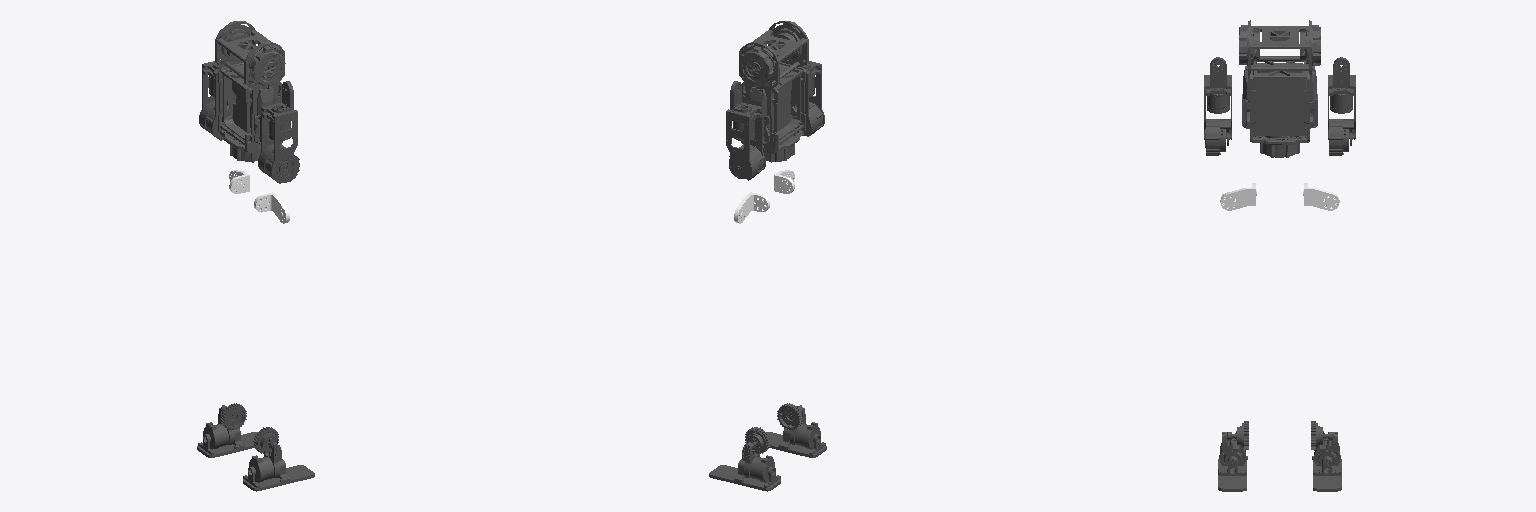
URDF robot description (E1):
<?xml version="1.0" encoding="utf-8"?>
<robot name="E1">

  <!-- <mujoco>
    <compiler meshdir="./meshes" balanceinertia="true" discardvisual="false" />
  </mujoco>

  <link name="world"></link>
  <joint name="floating_base_joint" type="floating">
    <parent link="world"/>
    <child link="pelvis"/>
  </joint> -->

  <link name="pelvis">
    <inertial>
      <origin xyz="-1.83413794531939E-07 2.98943988592675E-07 0.0134170656558657" rpy="0 0 0" />
      <mass value="2.73" />
      <inertia ixx="0.00792451" ixy="-0.00000201" ixz="0.00022435" iyy="0.00661284" iyz="0.00000816" izz="0.00695262" />
    </inertial>
    <visual>
      <origin xyz="0 0 0" rpy="0 0 0" />
      <geometry>
        <mesh filename="../meshes/pelvis.STL" />
      </geometry>
      <material name="">
        <color rgba="0.4 0.4 0.4 0.3" />
      </material>
    </visual>
    <!-- <collision>
      <origin xyz="0 0 0" rpy="0 0 0" />
      <geometry>
        <box size="0.11 0.11 0.08" />
      </geometry>
    </collision> -->
  </link>
  <link name="left_hip_pitch_link">
    <inertial>
      <origin xyz="0.00029538 0.03084445 -0.00578934" rpy="0 0 0" />
      <mass value="0.145" />
      <inertia ixx="0.00011256" ixy="0.00002214" ixz="-0.00000468" iyy="0.00005128" iyz="-0.00002099" izz="0.00010702" />
    </inertial>
    <visual>
      <origin xyz="0 0 0" rpy="0 0 0" />
      <geometry>
        <mesh filename="../meshes/left_hip_pitch_link.STL" />
      </geometry>
      <material name="">
        <color rgba="1 1 1 1" />
      </material>
    </visual>
  </link>
  <joint name="left_hip_pitch_joint" type="revolute">
    <origin xyz="0 0.0575 0" rpy="0 0 0" />
    <parent link="pelvis" />
    <child link="left_hip_pitch_link" />
    <axis xyz="0 1 0" />
    <limit lower="-1.8" upper="1.57" effort="60" velocity="20.42" />
  </joint>
  <link name="left_hip_roll_link">
    <inertial>
      <origin xyz="-0.00147244 0.00041537 -0.03721449" rpy="0 0 0" />
      <mass value="1.39" />
      <inertia ixx="0.002567" ixy="0.00001559" ixz="-0.00006696" iyy="0.00235625" iyz="0.00000301" izz="0.00145182" />
    </inertial>
    <visual>
      <origin xyz="0 0 0" rpy="0 0 0" />
      <geometry>
        <mesh filename="../meshes/left_hip_roll_link.STL" />
      </geometry>
      <material name="">
        <color rgba="0.4 0.4 0.4 0.3" />
      </material>
    </visual>
    <!-- <collision>
      <origin xyz="0 0 0" rpy="0 1.5708 0" />
      <geometry>
        <cylinder radius="0.05" length="0.09" />
      </geometry>
    </collision> -->
  </link>
  <joint name="left_hip_roll_joint" type="revolute">
    <origin xyz="0 0.0575 -0.015" rpy="0 0 0" />
    <parent link="left_hip_pitch_link" />
    <child link="left_hip_roll_link" />
    <axis xyz="1 0 0" />
    <limit lower="-0.1745" upper="1.57" effort="60" velocity="20.42" />
  </joint>
  <link name="left_hip_yaw_link">
    <inertial>
      <origin xyz="0.00070152 0.00025365 -0.08614663" rpy="0 0 0" />
      <mass value="2.32" />
      <inertia ixx="0.01611989" ixy="-0.00000019" ixz="-0.00028259" iyy="0.01646544" iyz="0.00024296" izz="0.00278263" />
    </inertial>
    <visual>
      <origin xyz="0 0 0" rpy="0 0 0" />
      <geometry>
        <mesh filename="../meshes/left_hip_yaw_link.STL" />
      </geometry>
      <material name="">
        <color rgba="0.4 0.4 0.4 0.3" />
      </material>
    </visual>
    <collision>
      <origin xyz="0 0 -0.085" rpy="0 0 0" />
      <geometry>
        <cylinder radius="0.06" length="0.2" />
      </geometry>
    </collision>
  </link>
  <joint name="left_hip_yaw_joint" type="revolute">
    <origin xyz="0 0 -0.098" rpy="0 0 0" />
    <parent link="left_hip_roll_link" />
    <child link="left_hip_yaw_link" />
    <axis xyz="0 0 1" />
    <limit lower="-1.0" upper="1.0" effort="36" velocity="50.27" />
  </joint>
  <link name="left_knee_link">
    <inertial>
      <origin xyz="0.00414084 -0.00040825 -0.13326938" rpy="0 0 0" />
      <mass value="0.785" />
      <inertia ixx="0.01156593" ixy="0.00000094" ixz="-0.00002291" iyy="0.01158947" iyz="0.00008706" izz="0.00032382" />
    </inertial>
    <visual>
      <origin xyz="0 0 0" rpy="0 0 0" />
      <geometry>
        <mesh filename="../meshes/left_knee_link.STL" />
      </geometry>
      <material name="">
        <color rgba="0.4 0.4 0.4 0.3" />
      </material>
    </visual>
    <collision>
      <origin xyz="0.008 0 -0.165" rpy="0 0.04 0" />
      <geometry>
        <cylinder radius="0.045" length="0.23" />
      </geometry>
    </collision>
  </link>
  <joint name="left_knee_joint" type="revolute">
    <origin xyz="0 0 -0.222" rpy="0 0 0" />
    <parent link="left_hip_yaw_link" />
    <child link="left_knee_link" />
    <axis xyz="0 1 0" />
    <!-- 传动比17/28 -->
    <limit lower="0" upper="2.4435" effort="59.3" velocity="30.52" />
  </joint>
  <link name="left_ankle_pitch_link">
    <inertial>
      <origin xyz="-0.01426716 -0.00101925 -0.04298429" rpy="0 0 0" />
      <mass value="0.597" />
      <inertia ixx="0.00065314" ixy="-0.00001099" ixz="0.00013946" iyy="0.00072568" iyz="-0.00003869" izz="0.00044755" />
    </inertial>
    <visual>
      <origin xyz="0 0 0" rpy="0 0 0" />
      <geometry>
        <mesh filename="../meshes/left_ankle_pitch_link.STL" />
      </geometry>
      <material name="">
        <color rgba="0.4 0.4 0.4 1" />
      </material>
    </visual>
  </link>
  <joint name="left_ankle_pitch_joint" type="revolute">
    <origin xyz="0 0 -0.32" rpy="0 0 0" />
    <parent link="left_knee_link" />
    <child link="left_ankle_pitch_link" />
    <axis xyz="0 1 0" />
    <!-- 传动比17/28 -->
    <limit lower="-0.87" upper="0.35" effort="59.3" velocity="30.52" />
  </joint>
  <link name="left_ankle_roll_link">
    <inertial>
      <origin xyz="0.01152056 0 -0.02947055" rpy="0 0 0" />
      <mass value="0.294" />
      <inertia ixx="0.0001508" ixy="0" ixz="-0.00002398" iyy="0.00074194" iyz="0" izz="0.00079391" />
    </inertial>
    <visual>
      <origin xyz="0 0 0" rpy="0 0 0" />
      <geometry>
        <mesh filename="../meshes/left_ankle_roll_link.STL" />
      </geometry>
      <material name="">
        <color rgba="0.4 0.4 0.4 0.3" />
      </material>
    </visual>
    <collision>
      <origin xyz="0.02 0 -0.027" rpy="0 0 0" />
      <geometry>
        <box size="0.18 0.07 0.025" />
      </geometry>
    </collision>
  </link>
  <joint name="left_ankle_roll_joint" type="revolute">
    <origin xyz="0 0 -0.06" rpy="0 0 0" />
    <parent link="left_ankle_pitch_link" />
    <child link="left_ankle_roll_link" />
    <axis xyz="1 0 0" />
    <limit lower="-0.44" upper="0.44" effort="14" velocity="32.99" />
  </joint>
  <link name="right_hip_pitch_link">
    <inertial>
      <origin xyz="0.00029538 -0.03084445 -0.00578934" rpy="0 0 0" />
      <mass value="0.145" />
      <inertia ixx="0.00011256" ixy="-0.00002214" ixz="-0.00000468" iyy="0.00005128" iyz="0.00002099" izz="0.00010702" />
    </inertial>
    <visual>
      <origin xyz="0 0 0" rpy="0 0 0" />
      <geometry>
        <mesh filename="../meshes/right_hip_pitch_link.STL" />
      </geometry>
      <material name="">
        <color rgba="1 1 1 1" />
      </material>
    </visual>
  </link>
  <joint name="right_hip_pitch_joint" type="revolute">
    <origin xyz="0 -0.0575 0" rpy="0 0 0" />
    <parent link="pelvis" />
    <child link="right_hip_pitch_link" />
    <axis xyz="0 1 0" />
    <limit lower="-1.8" upper="1.57" effort="60" velocity="20.42" />
  </joint>
  <link name="right_hip_roll_link">
    <inertial>
      <origin xyz="-0.00147237 -0.00041532 -0.03721455" rpy="0 0 0" />
      <mass value="1.39" />
      <inertia ixx="0.00256699" ixy="-0.00001559" ixz="-0.00006696" iyy="0.00235625" iyz="-0.00000302" izz="0.00145182" />
    </inertial>
    <visual>
      <origin xyz="0 0 0" rpy="0 0 0" />
      <geometry>
        <mesh filename="../meshes/right_hip_roll_link.STL" />
      </geometry>
      <material name="">
        <color rgba="0.4 0.4 0.4 0.3" />
      </material>
    </visual>
    <!-- <collision>
      <origin xyz="0 0 0" rpy="0 1.5708 0" />
      <geometry>
        <cylinder radius="0.05" length="0.09" />
      </geometry>
    </collision> -->
  </link>
  <joint name="right_hip_roll_joint" type="revolute">
    <origin xyz="0 -0.0575 -0.015" rpy="0 0 0" />
    <parent link="right_hip_pitch_link" />
    <child link="right_hip_roll_link" />
    <axis xyz="1 0 0" />
    <limit lower="-1.57" upper="0.1745" effort="60" velocity="20.42" />
  </joint>
  <link name="right_hip_yaw_link">
    <inertial>
      <origin xyz="0.00070152 -0.00025365 -0.08614688" rpy="0 0 0" />
      <mass value="2.32" />
      <inertia ixx="0.01611990" ixy="0.00000018" ixz="-0.00028259" iyy="0.01646544" iyz="-0.00024296" izz="0.00278262" />
    </inertial>
    <visual>
      <origin xyz="0 0 0" rpy="0 0 0" />
      <geometry>
        <mesh filename="../meshes/right_hip_yaw_link.STL" />
      </geometry>
      <material name="">
        <color rgba="0.4 0.4 0.4 0.3" />
      </material>
    </visual>
    <collision>
      <origin xyz="0 0 -0.085" rpy="0 0 0" />
      <geometry>
        <cylinder radius="0.06" length="0.2" />
      </geometry>
    </collision>
  </link>
  <joint name="right_hip_yaw_joint" type="revolute">
    <origin xyz="0 0 -0.098" rpy="0 0 0" />
    <parent link="right_hip_roll_link" />
    <child link="right_hip_yaw_link" />
    <axis xyz="0 0 1" />
    <limit lower="-1.0" upper="1.0" effort="36" velocity="50.27" />
  </joint>
  <link name="right_knee_link">
    <inertial>
      <origin xyz="0.00414085 0.00040825 -0.13326949" rpy="0 0 0" />
      <mass value="0.785" />
      <inertia ixx="0.01156594" ixy="-0.00000094" ixz="-0.00002291" iyy="0.01158948" iyz="-0.00008706" izz="0.00032382" />
    </inertial>
    <visual>
      <origin xyz="0 0 0" rpy="0 0 0" />
      <geometry>
        <mesh filename="../meshes/right_knee_link.STL" />
      </geometry>
      <material name="">
        <color rgba="0.4 0.4 0.4 0.3" />
      </material>
    </visual>
    <collision>
      <origin xyz="0.008 0 -0.165" rpy="0 0.04 0" />
      <geometry>
        <cylinder radius="0.045" length="0.23" />
      </geometry>
    </collision>
  </link>
  <joint name="right_knee_joint" type="revolute">
    <origin xyz="0 0 -0.222" rpy="0 0 0" />
    <parent link="right_hip_yaw_link" />
    <child link="right_knee_link" />
    <axis xyz="0 1 0" />
    <!-- 传动比17/28 -->
    <limit lower="0" upper="2.4435" effort="59.3" velocity="30.52" />
  </joint>
  <link name="right_ankle_pitch_link">
    <inertial>
      <origin xyz="-0.01426715 0.00101913 -0.0429843" rpy="0 0 0" />
      <mass value="0.597" />
      <inertia ixx="0.00065314" ixy="0.00001099" ixz="0.00013946" iyy="0.00072569" iyz="0.00003869" izz="0.00044755" />
    </inertial>
    <visual>
      <origin xyz="0 0 0" rpy="0 0 0" />
      <geometry>
        <mesh filename="../meshes/right_ankle_pitch_link.STL" />
      </geometry>
      <material name="">
        <color rgba="0.4 0.4 0.4 1" />
      </material>
    </visual>
  </link>
  <joint name="right_ankle_pitch_joint" type="revolute">
    <origin xyz="0 0 -0.32" rpy="0 0 0" />
    <parent link="right_knee_link" />
    <child link="right_ankle_pitch_link" />
    <axis xyz="0 1 0" />
    <!-- 传动比17/28 -->
    <limit lower="-0.87" upper="0.35" effort="59.3" velocity="30.52" />
  </joint>
  <link name="right_ankle_roll_link">
    <inertial>
      <origin xyz="0.01152056 0 -0.02947055" rpy="0 0 0" />
      <mass value="0.294" />
      <inertia ixx="0.0001508" ixy="0" ixz="-0.00002398" iyy="0.00074194" iyz="0" izz="0.00079391" />
    </inertial>
    <visual>
      <origin xyz="0 0 0" rpy="0 0 0" />
      <geometry>
        <mesh filename="../meshes/right_ankle_roll_link.STL" />
      </geometry>
      <material name="">
        <color rgba="0.4 0.4 0.4 0.3" />
      </material>
    </visual>
    <collision>
      <origin xyz="0.02 0 -0.027" rpy="0 0 0" />
      <geometry>
        <box size="0.18 0.07 0.025" />
      </geometry>
    </collision>
  </link>
  <joint name="right_ankle_roll_joint" type="revolute">
    <origin xyz="0 0 -0.06" rpy="0 0 0" />
    <parent link="right_ankle_pitch_link" />
    <child link="right_ankle_roll_link" />
    <axis xyz="1 0 0" />
    <limit lower="-0.44" upper="0.44" effort="14" velocity="32.99" />
  </joint>
  <link name="torso_link">
    <inertial>
      <origin xyz="-0.000953250891786016 4.48463714895152E-06 0.1267079838967867" rpy="0 0 0" />
      <mass value="6.5" />
      <inertia ixx="0.05533478" ixy="0.00020066" ixz="0.00006865" iyy="0.04385891" iyz="0.00036014" izz="0.0199517" />
    </inertial>
    <visual>
      <origin xyz="0 0 0" rpy="0 0 0" />
      <geometry>
        <mesh filename="../meshes/torso_link.STL" />
      </geometry>
      <material name="">
        <color rgba="0.419607843137255 0.419607843137255 0.419607843137255 1" />
      </material>
    </visual>
    <collision>
      <origin xyz="0 0 0.13" rpy="0 0 0" />
      <geometry>
        <box size="0.16 0.16 0.30" />
      </geometry>
    </collision>
  </link>
  <joint name="waist_yaw_joint" type="revolute">
    <origin xyz="0 0 0.111" rpy="0 0 0" />
    <parent link="pelvis" />
    <child link="torso_link" />
    <axis xyz="0 0 1" />
    <limit lower="-1.5708" upper="1.5708" effort="60" velocity="20.42" />
  </joint>
  <link name="left_shoulder_pitch_link">
    <inertial>
      <origin xyz="-0.0029314 0.04236878 0.00000234" rpy="0 0 0" />
      <mass value="0.86" />
      <inertia ixx="0.00102909" ixy="-0.00002678" ixz="-0.00000002" iyy="0.00061621" iyz="-0.00000002" izz="0.00086617" />
    </inertial>
    <visual>
      <origin xyz="0 0 0" rpy="0 0 0" />
      <geometry>
        <mesh filename="../meshes/left_shoulder_pitch_link.STL" />
      </geometry>
      <material name="">
        <color rgba="0.419607843137255 0.419607843137255 0.419607843137255 1" />
      </material>
    </visual>
  </link>
  <joint name="left_shoulder_pitch_joint" type="revolute">
    <origin xyz="0 0.095 0.239" rpy="0 0 0" />
    <parent link="torso_link" />
    <child link="left_shoulder_pitch_link" />
    <axis xyz="0 1 0" />
    <limit lower="-1.0472" upper="2.7925" effort="36" velocity="50.27" />
  </joint>
  <link name="left_shoulder_roll_link">
    <inertial>
      <origin xyz="0.00078196 -0.00016662 -0.02897185" rpy="0 0 0" />
      <mass value="0.1" />
      <inertia ixx="0.00006297" ixy="0.00000007" ixz="0.0000124" iyy="0.00006244" iyz="0.0000002" izz="0.00002735" />
    </inertial>
    <visual>
      <origin xyz="0 0 0" rpy="0 0 0" />
      <geometry>
        <mesh filename="../meshes/left_shoulder_roll_link.STL" />
      </geometry>
      <material name="">
        <color rgba="0.4 0.4 0.4 0.3" />
      </material>
    </visual>
    <collision>
      <origin xyz="0 0 0" rpy="0 1.5708 0" />
      <geometry>
        <cylinder radius="0.044" length="0.05" />
      </geometry>
    </collision>
  </link>
  <joint name="left_shoulder_roll_joint" type="revolute">
    <origin xyz="0 0.055 0" rpy="0 0 0" />
    <parent link="left_shoulder_pitch_link" />
    <child link="left_shoulder_roll_link" />
    <axis xyz="1 0 0" />
    <limit lower="-0.1745" upper="2.9671" effort="36" velocity="50.27" />
  </joint>
  <link name="left_shoulder_yaw_link">
    <inertial>
      <origin xyz="-0.00317011 -0.0005976 -0.07021454" rpy="0 0 0" />
      <mass value="1.55" />
      <inertia ixx="0.00649411" ixy="0.00005943" ixz="0.00025794" iyy="0.00640237" iyz="-0.00001492" izz="0.0014487" />
    </inertial>
    <visual>
      <origin xyz="0 0 0" rpy="0 0 0" />
      <geometry>
        <mesh filename="../meshes/left_shoulder_yaw_link.STL" />
      </geometry>
      <material name="">
        <color rgba="0.4 0.4 0.4 0.3" />
      </material>
    </visual>
    <collision>
      <origin xyz="0 0 -0.06" rpy="0 0 0" />
      <geometry>
        <cylinder radius="0.045" length="0.09" />
      </geometry>
    </collision>
  </link>
  <joint name="left_shoulder_yaw_joint" type="revolute">
    <origin xyz="0 0 -0.051" rpy="0 0 0" />
    <parent link="left_shoulder_roll_link" />
    <child link="left_shoulder_yaw_link" />
    <axis xyz="0 0 1" />
    <limit lower="-2.618" upper="2.618" effort="14" velocity="32.99" />
  </joint>

  <link name="right_shoulder_pitch_link">
    <inertial>
      <origin xyz="-0.0029314 -0.04236878 -0.00000234" rpy="0 0 0" />
      <mass value="0.86" />
      <inertia ixx="0.00102909" ixy="0.00002678" ixz="0.00000002" iyy="0.00061621" iyz="-0.00000002" izz="0.00086617" />
    </inertial>
    <visual>
      <origin xyz="0 0 0" rpy="0 0 0" />
      <geometry>
        <mesh filename="../meshes/right_shoulder_pitch_link.STL" />
      </geometry>
      <material name="">
        <color rgba="0.419607843137255 0.419607843137255 0.419607843137255 1" />
      </material>
    </visual>
  </link>
  <joint name="right_shoulder_pitch_joint" type="revolute">
    <origin xyz="0 -0.095 0.239" rpy="0 0 0" />
    <parent link="torso_link" />
    <child link="right_shoulder_pitch_link" />
    <axis xyz="0 1 0" />
    <limit lower="-1.0472" upper="2.7925" effort="36" velocity="50.27" />
  </joint>
  <link name="right_shoulder_roll_link">
    <inertial>
      <origin xyz="0.00078196 0 -0.02897233" rpy="0 0 0" />
      <mass value="0.1" />
      <inertia ixx="0.00006297" ixy="0" ixz="0.00001240" iyy="0.00006245" iyz="0" izz="0.00002735" />
    </inertial>
    <visual>
      <origin xyz="0 0 0" rpy="0 0 0" />
      <geometry>
        <mesh filename="../meshes/right_shoulder_roll_link.STL" />
      </geometry>
      <material name="">
        <color rgba="0.4 0.4 0.4 0.3" />
      </material>
    </visual>
    <collision>
      <origin xyz="0 0 0" rpy="0 1.5708 0" />
      <geometry>
        <cylinder radius="0.044" length="0.05" />
      </geometry>
    </collision>
  </link>
  <joint name="right_shoulder_roll_joint" type="revolute">
    <origin xyz="0 -0.055 0" rpy="0 0 0" />
    <parent link="right_shoulder_pitch_link" />
    <child link="right_shoulder_roll_link" />
    <axis xyz="1 0 0" />
    <limit lower="-2.9671" upper="0.1745" effort="36" velocity="50.27" />
  </joint>
  <link name="right_shoulder_yaw_link">
    <inertial>
      <origin xyz="-0.00317012 0.00059760 -0.07021462" rpy="0 0 0" />
      <mass value="1.55" />
      <inertia ixx="0.00649412" ixy="-0.00005943" ixz="0.00025794" iyy="0.00640237" iyz="0.00001492" izz="0.00144870" />
    </inertial>
    <visual>
      <origin xyz="0 0 0" rpy="0 0 0" />
      <geometry>
        <mesh filename="../meshes/right_shoulder_yaw_link.STL" />
      </geometry>
      <material name="">
        <color rgba="0.4 0.4 0.4 0.3" />
      </material>
    </visual>
    <collision>
      <origin xyz="0 0 -0.06" rpy="0 0 0" />
      <geometry>
        <cylinder radius="0.045" length="0.09" />
      </geometry>
    </collision>
  </link>
  <joint name="right_shoulder_yaw_joint" type="revolute">
    <origin xyz="0 0 -0.051" rpy="0 0 0" />
    <parent link="right_shoulder_roll_link" />
    <child link="right_shoulder_yaw_link" />
    <axis xyz="0 0 1" />
    <limit lower="-2.618" upper="2.618" effort="14" velocity="32.99" />
  </joint>
  
</robot>

--- What the picture shows (computed from the rendered views, not written in the file) ---
Views: 3 orthographic renders of the robot side by side, from view 1: azimuth 30°, elevation 25°; view 2: azimuth 150°, elevation 25°; view 3: azimuth 270°, elevation 25°.
Model E1 with 20 links and 19 joints (19 revolute), rooted at pelvis, posed every joint at zero.
Links seen in each view (by area): view 1: torso_link, right_shoulder_yaw_link, right_ankle_pitch_link, left_shoulder_yaw_link, left_ankle_pitch_link, right_ankle_roll_link, left_ankle_roll_link, right_hip_pitch_link; view 2: torso_link, left_shoulder_yaw_link, left_ankle_pitch_link, right_shoulder_yaw_link, right_ankle_pitch_link, left_ankle_roll_link, right_ankle_roll_link, left_hip_pitch_link; view 3: torso_link, right_shoulder_yaw_link, left_shoulder_yaw_link, right_ankle_pitch_link, left_ankle_pitch_link, left_ankle_roll_link, right_ankle_roll_link, left_hip_pitch_link, right_hip_pitch_link.
Link boxes in pixels (x1,y1,x2,y2): torso_link: (215, 21, 285, 162); right_shoulder_yaw_link: (258, 102, 299, 183); right_ankle_pitch_link: (249, 427, 281, 482); left_shoulder_yaw_link: (199, 61, 223, 140); left_ankle_pitch_link: (203, 403, 246, 449); right_ankle_roll_link: (243, 459, 314, 491); left_ankle_roll_link: (197, 428, 257, 457); right_hip_pitch_link: (254, 192, 289, 223); torso_link: (739, 21, 808, 162); left_shoulder_yaw_link: (726, 102, 765, 180); left_ankle_pitch_link: (742, 427, 774, 482); right_shoulder_yaw_link: (801, 61, 824, 136); right_ankle_pitch_link: (777, 403, 820, 449); left_ankle_roll_link: (709, 459, 780, 491); right_ankle_roll_link: (766, 428, 826, 457); left_hip_pitch_link: (734, 192, 769, 223); torso_link: (1239, 20, 1320, 157); right_shoulder_yaw_link: (1204, 75, 1231, 155); left_shoulder_yaw_link: (1328, 75, 1355, 155); right_ankle_pitch_link: (1219, 421, 1248, 465); left_ankle_pitch_link: (1311, 421, 1340, 465); left_ankle_roll_link: (1312, 456, 1341, 491); right_ankle_roll_link: (1218, 456, 1247, 491); left_hip_pitch_link: (1303, 183, 1339, 210); right_hip_pitch_link: (1220, 183, 1256, 210).
Size in the robot's own frame: 0.18 by 0.368 by 1.21 metres.
Meshes: 20 distinct files referenced, 11 mesh visuals loaded (11 binary STL); not drawn: 9 (reference not matched to a file when rendering).
